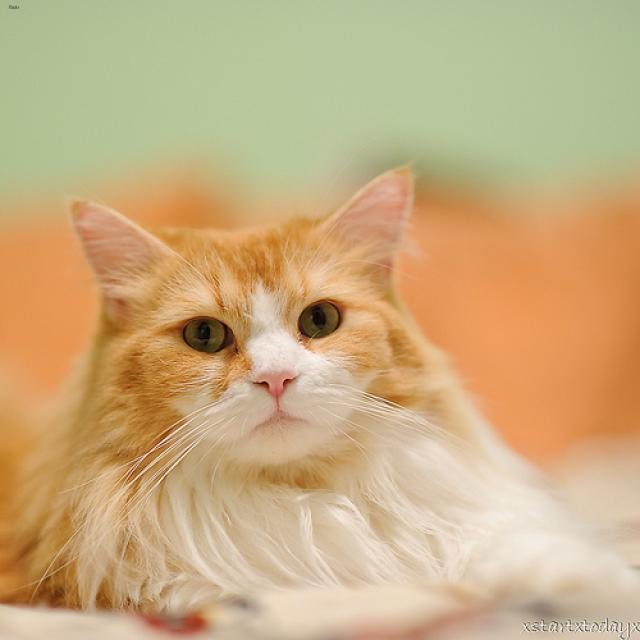Maine_Coon: (68, 165, 413, 461)
